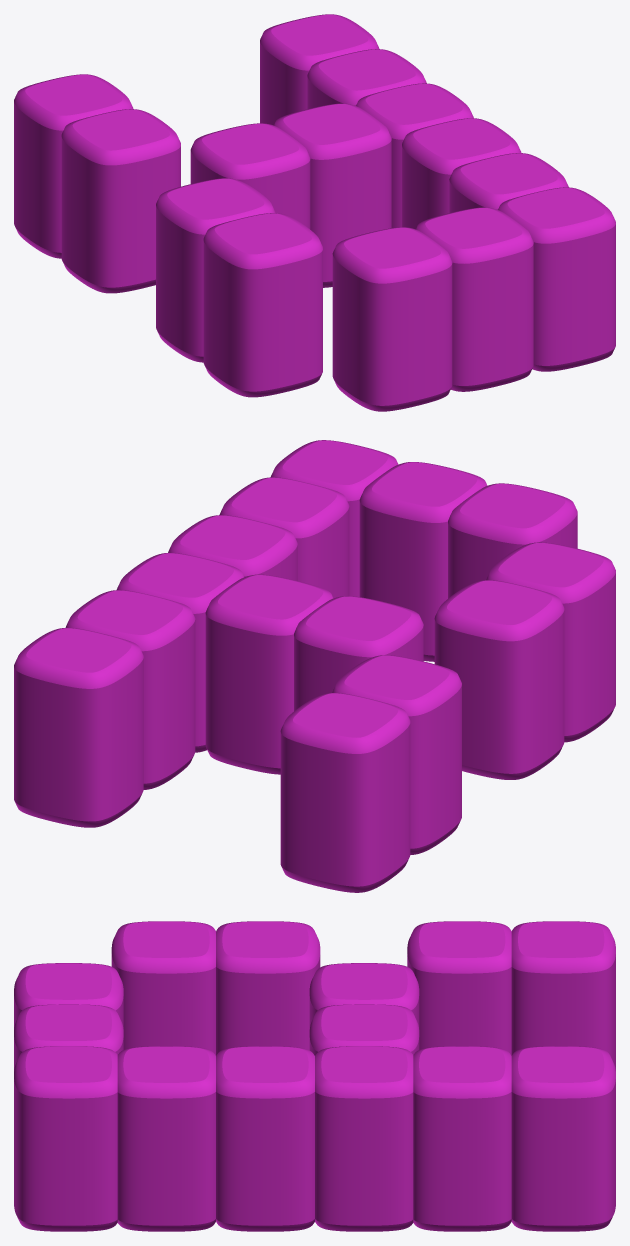
The model's file is Letter_R.fbx.
3 views of the same model, one above another, from view 1: azimuth 30°, elevation 25°; view 2: azimuth 150°, elevation 25°; view 3: azimuth 270°, elevation 25° (orthographic). The views are drawn at different scales.
Parts seen in each view (by area): view 1: Letter_R; view 2: Letter_R; view 3: Letter_R.
Boxes of the visible parts, left/top/right/bottom form: Letter_R: left=14, top=14, right=615, bottom=411; Letter_R: left=14, top=440, right=615, bottom=892; Letter_R: left=14, top=921, right=615, bottom=1231.
Bounding box in the file's own units: 0.3465 × 0.14 × 0.5146.
